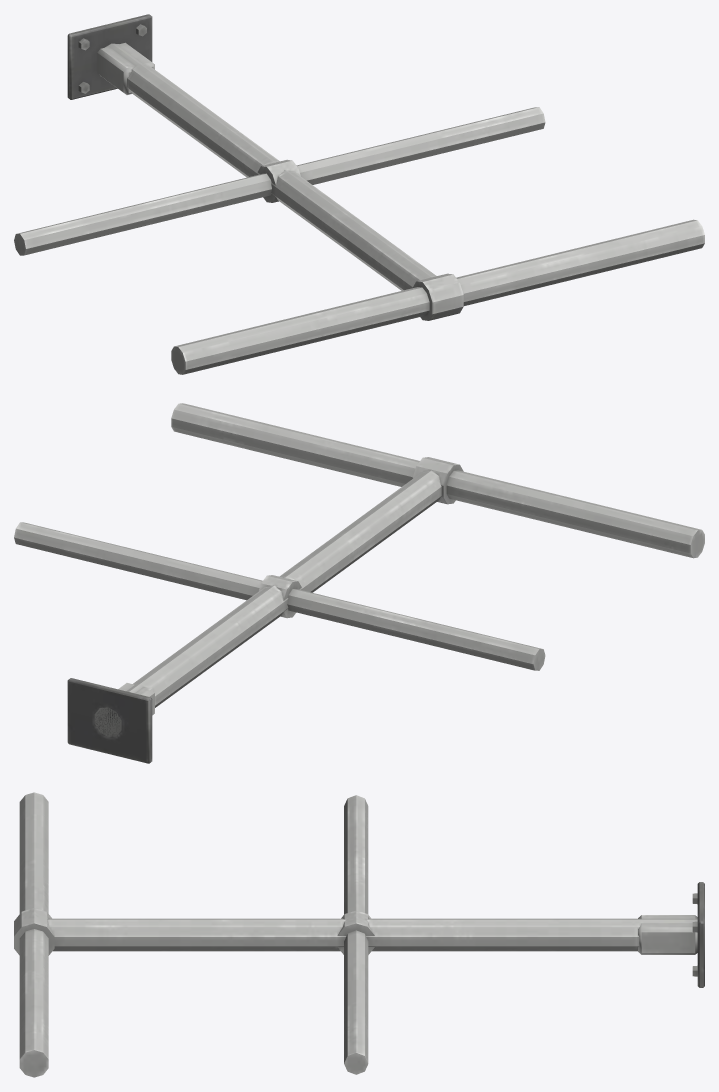
The model's file is rail.glb.
3 renders of one model, top to bottom at view 1: azimuth 30°, elevation 25°; view 2: azimuth 150°, elevation 25°; view 3: azimuth 270°, elevation 25°, orthographic.
Visible parts, largest first — view 1: rail; view 2: rail; view 3: rail.
Part boxes in pixels (x1,y1,x2,y2): rail: (14,14,704,374); rail: (14,403,704,763); rail: (14,792,704,1077).
Size of the model in its own units: 1 by 0.1199 by 1.13.
1 material, 1 textured.
